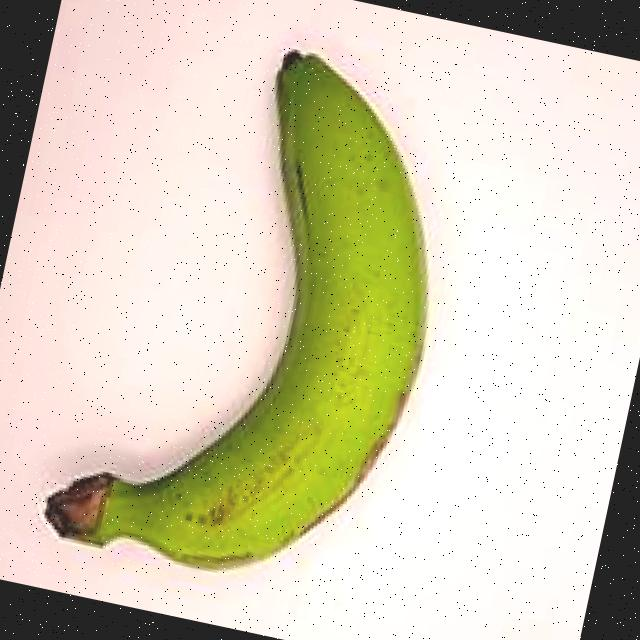Raw: (9, 4, 494, 622)
